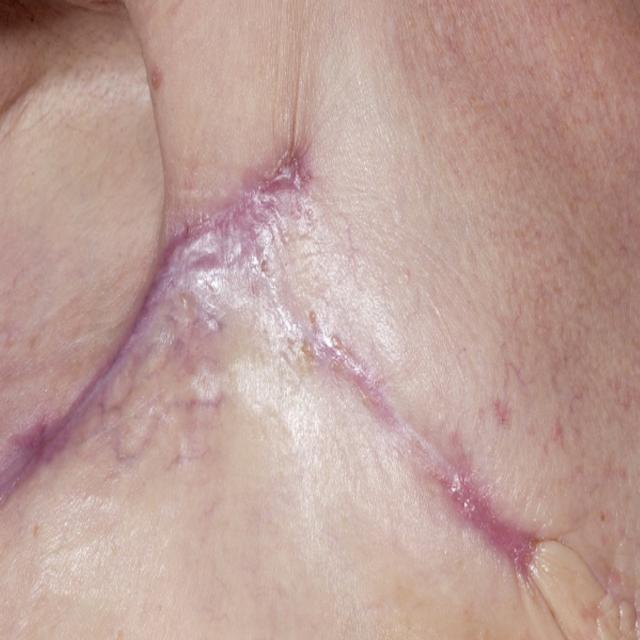wound: (21, 140, 543, 556)
